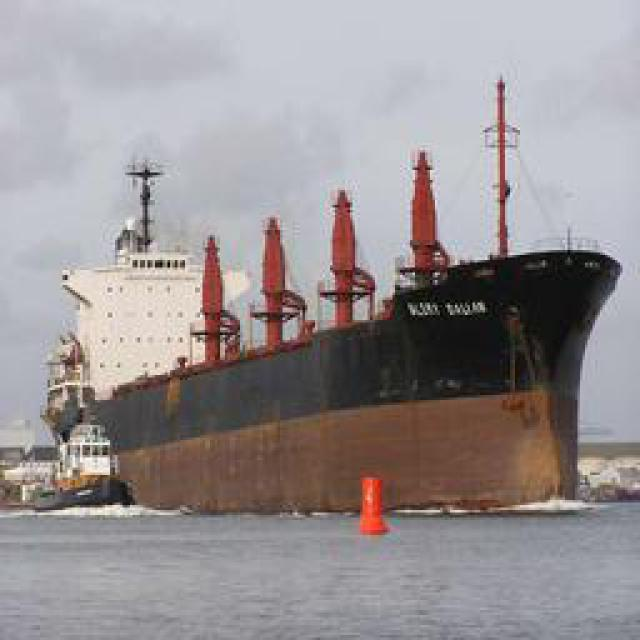Ship: (58, 168, 626, 516)
